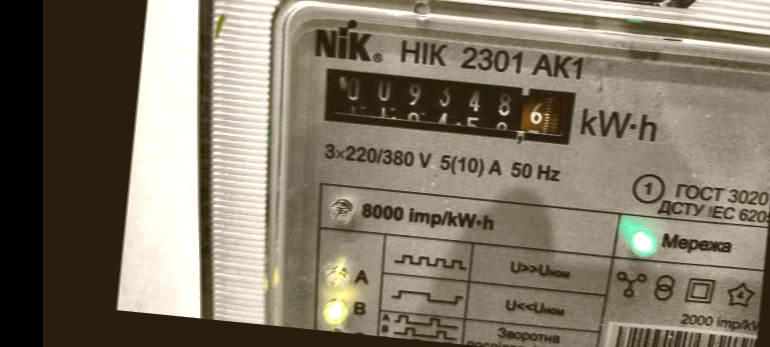0: (346, 73, 362, 100), (376, 76, 393, 101)
3: (437, 81, 453, 108)
4: (467, 84, 483, 112)
6: (528, 97, 547, 126)
8: (496, 88, 514, 117)
9: (406, 79, 423, 106)
screen: (312, 58, 587, 153)
